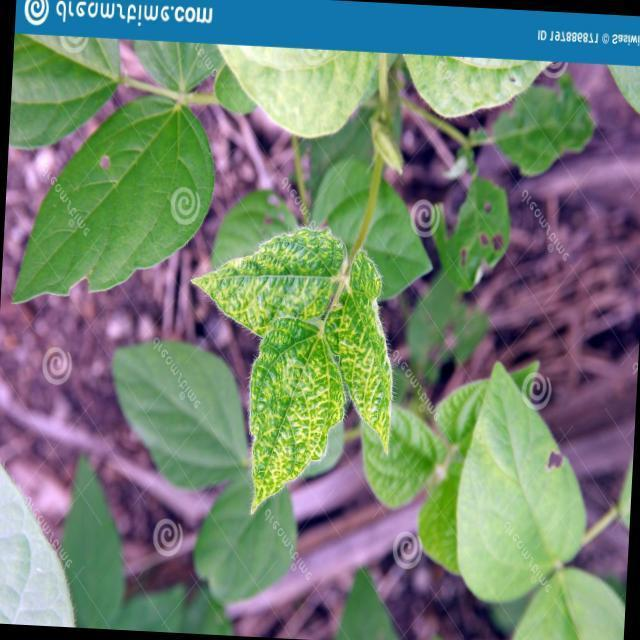Mosaic Virus: (193, 209, 351, 351), (238, 336, 338, 529), (333, 249, 401, 470)
